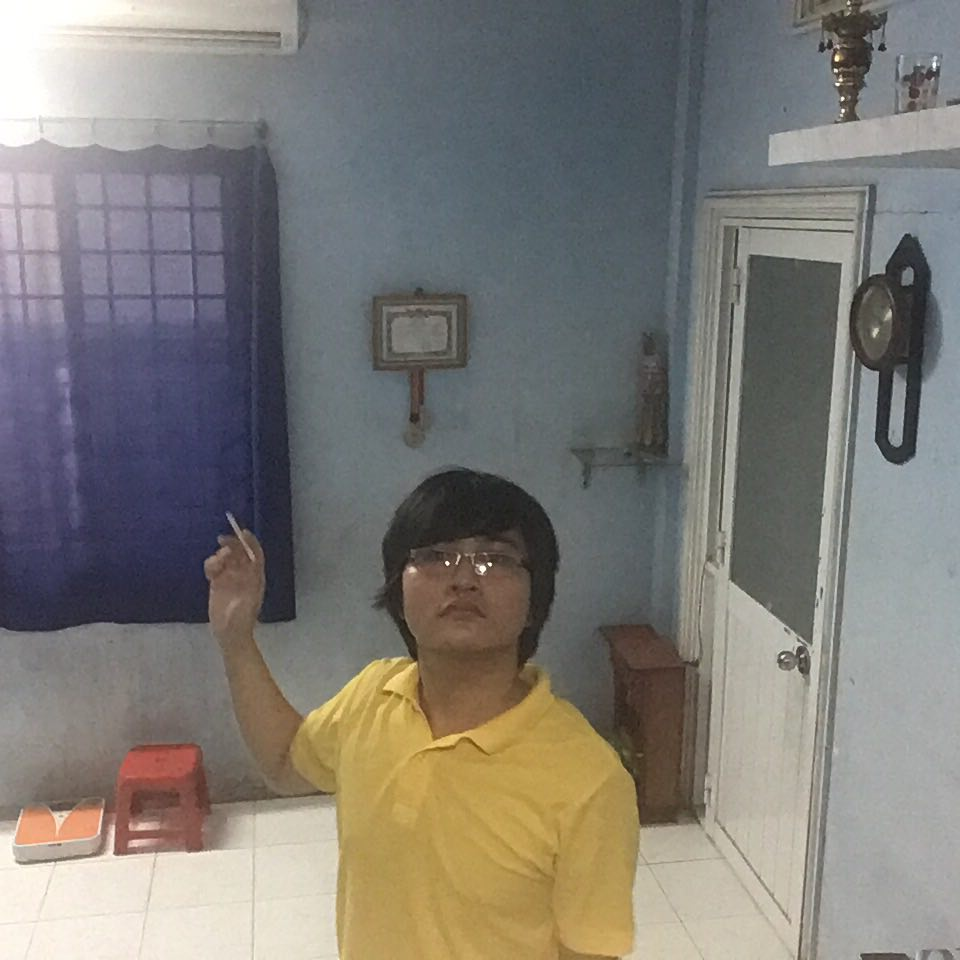cigarette: (218, 504, 244, 535)
person: (210, 461, 645, 960)
